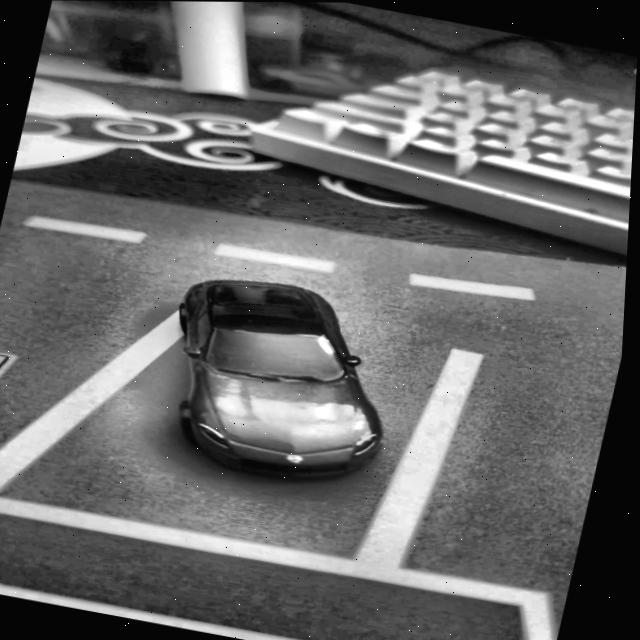car: (146, 264, 417, 495)
